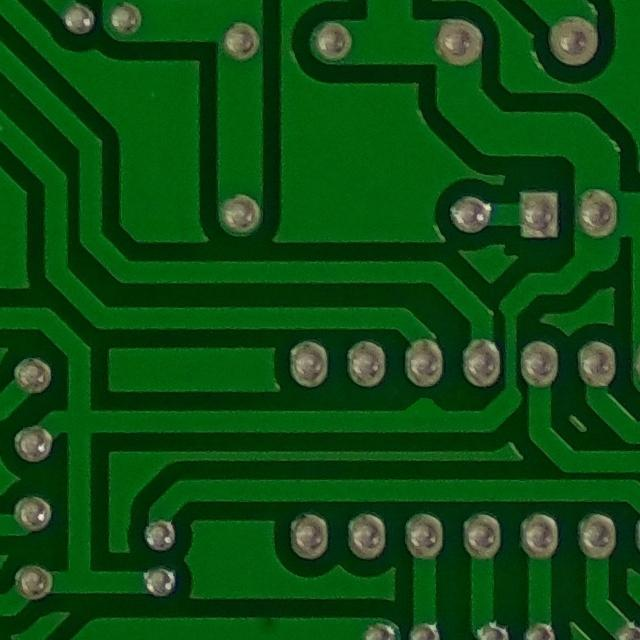spur: (396, 390, 460, 432)
